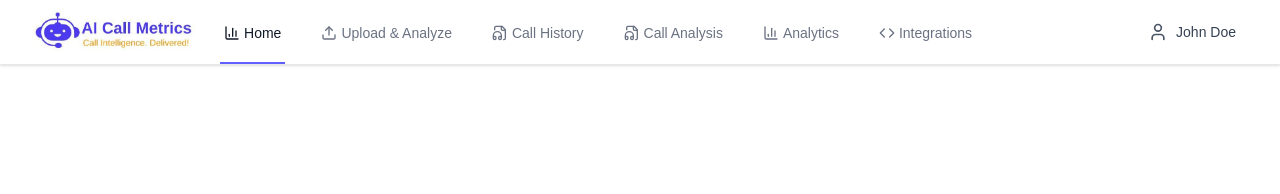
it: Navigation Component › Authenticated Navigation › should show email verification warning
This screenshot has width=1280, height=194.
Click the button "John Doe". click: (1192, 32)
box: [1136,14,1248,50]
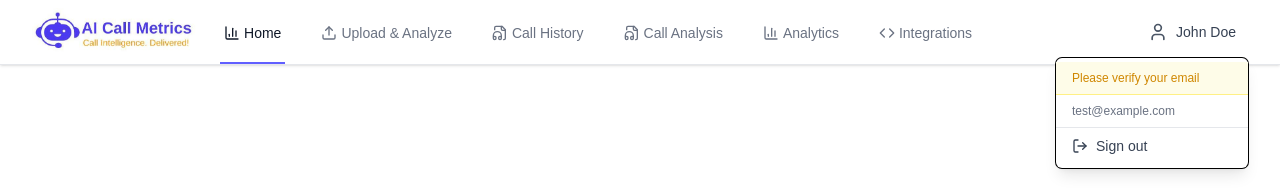
expect the text "Please verify your email" is shown: met, box [1056,62,1248,95]
